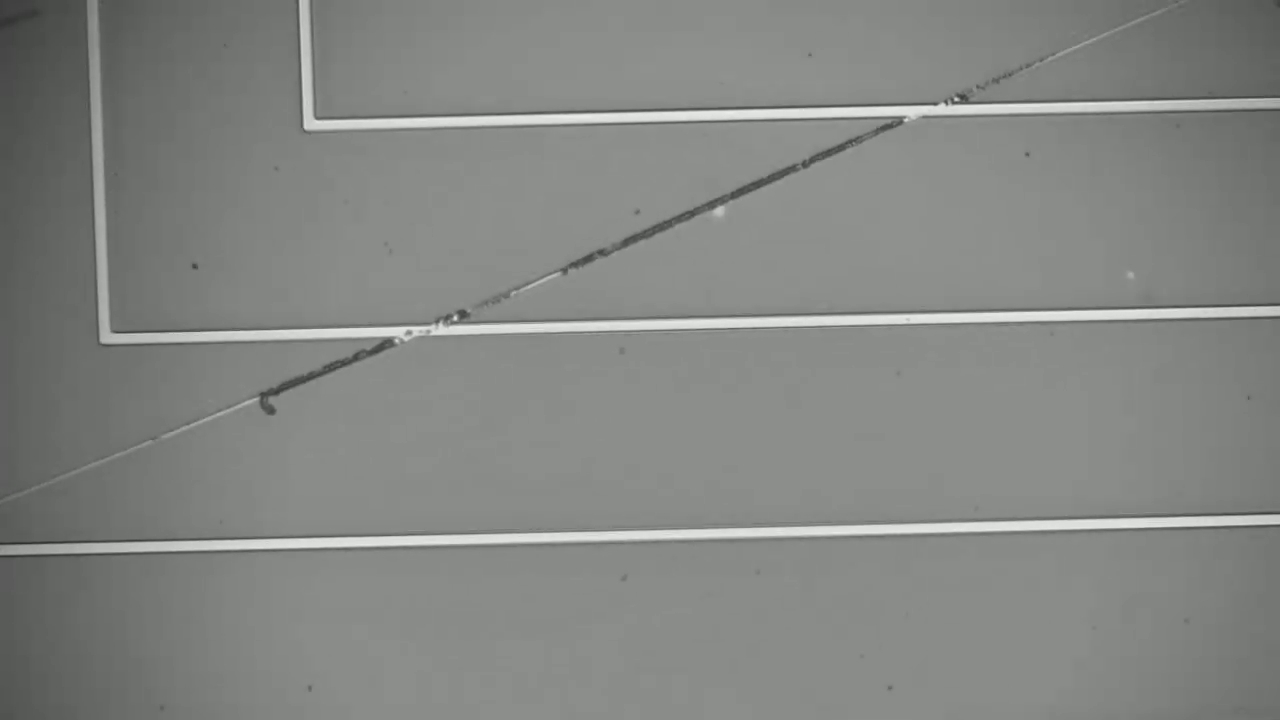scratch: (12, 1, 1192, 503)
